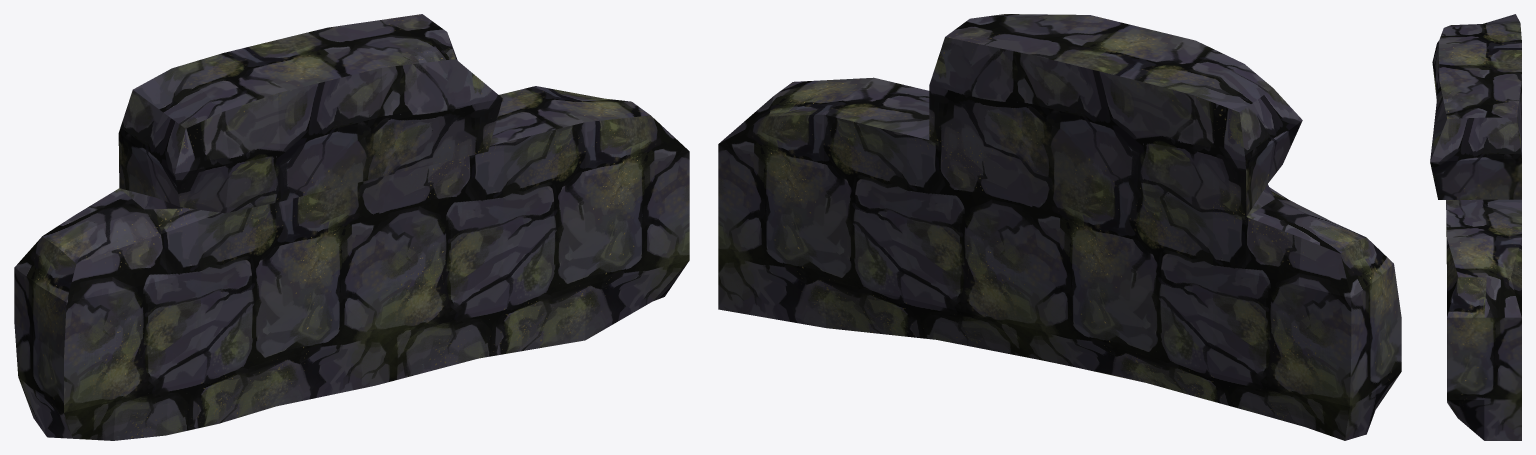
File: Ruins_01.fbx
3 renders of one model, left to right at view 1: azimuth 30°, elevation 25°; view 2: azimuth 150°, elevation 25°; view 3: azimuth 270°, elevation 25°, orthographic. The views are drawn at different scales.
Visible parts, largest first — view 1: Ruins_01; view 2: Ruins_01; view 3: Ruins_01.
Boxes of the visible parts, left/top/right/bottom form: Ruins_01: left=14, top=14, right=689, bottom=440; Ruins_01: left=718, top=14, right=1401, bottom=440; Ruins_01: left=1430, top=14, right=1521, bottom=440.
Bounding box in the file's own units: 0.7502 × 0.3752 × 0.1264.
Materials: 1 (1 with a texture image).
